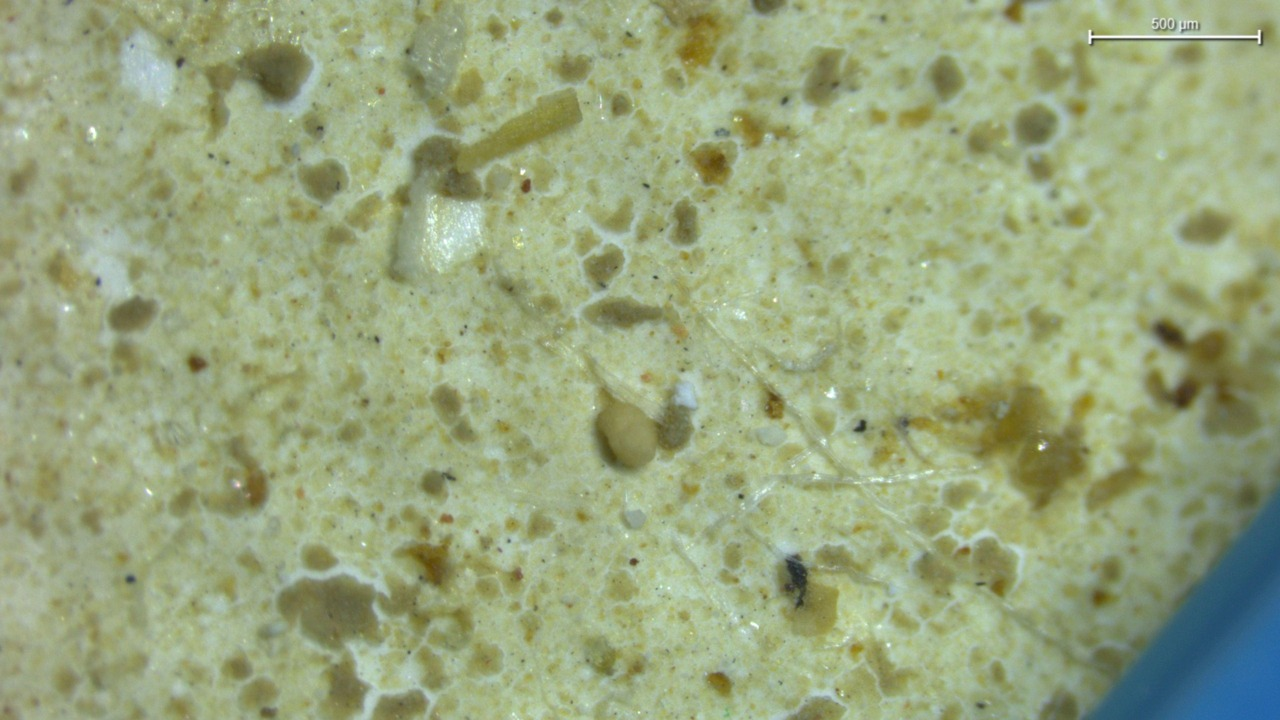microplastic_fragment: (456, 88, 582, 172), (394, 174, 485, 279), (407, 5, 467, 99), (596, 401, 658, 469), (672, 381, 698, 410), (755, 427, 786, 446), (625, 510, 646, 528)
